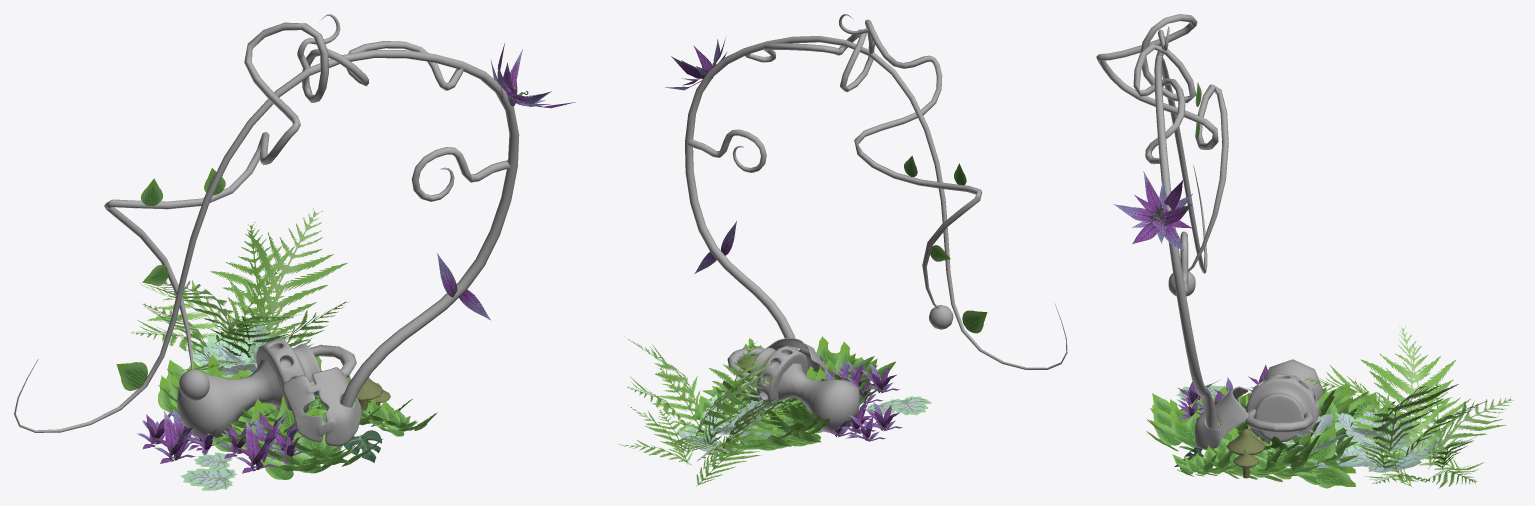
Rendered from title.fbx.
The picture shows the model from 3 angles, left to right: view 1: azimuth 30°, elevation 25°; view 2: azimuth 150°, elevation 25°; view 3: azimuth 270°, elevation 25°; orthographic projection. The views are drawn at different scales.
Parts seen in each view (by area): view 1: racine, feuillage_1_petit1, pCylinder41, masque, feuillage_2_petit1, feuillage_3_grand1, feuillage_4_grand6, feuillage_2_petit, lantern, feuillage_4_grand7, feuillage_4_grand5, feuillage_2_lighter1 (+7 smaller); view 2: racine, feuillage_1_petit1, pCylinder41, feuillage_3_grand1, lantern, feuillage_2_petit, feuillage_4_grand11, feuillage_2_petit1, feuillage_4_grand9, feuillage_2_lighter1, feuillage_4_grand7, feuillage_4_grand6 (+3 smaller); view 3: racine, feuillage_1_petit1, feuillage_3_grand1, feuillage_4_grand4, lantern, feuillage_2_lighter1, masque, feuillage_4_grand6, feuillage_4_grand5, feuillage_4_grand3, pCylinder41, nurbsToPoly55 (+5 smaller).
Part boxes in pixels (left/top/right/bottom): racine: left=14, top=14, right=519, bottom=432; feuillage_1_petit1: left=130, top=208, right=347, bottom=373; pCylinder41: left=177, top=360, right=282, bottom=439; masque: left=283, top=367, right=361, bottom=446; feuillage_2_petit1: left=218, top=412, right=307, bottom=473; feuillage_3_grand1: left=186, top=322, right=325, bottom=422; feuillage_4_grand6: left=239, top=396, right=382, bottom=473; feuillage_2_petit: left=136, top=409, right=225, bottom=463; lantern: left=256, top=338, right=320, bottom=412; feuillage_4_grand7: left=224, top=398, right=355, bottom=479; feuillage_4_grand5: left=352, top=398, right=437, bottom=436; feuillage_2_lighter1: left=490, top=43, right=575, bottom=108; racine: left=685, top=14, right=1067, bottom=369; feuillage_1_petit1: left=618, top=336, right=792, bottom=486; pCylinder41: left=777, top=363, right=860, bottom=431; feuillage_3_grand1: left=678, top=375, right=790, bottom=452; lantern: left=749, top=345, right=807, bottom=409; feuillage_2_petit: left=820, top=399, right=902, bottom=441; feuillage_4_grand11: left=728, top=400, right=817, bottom=450; feuillage_2_petit1: left=815, top=360, right=899, bottom=403; feuillage_4_grand9: left=772, top=368, right=871, bottom=446; feuillage_2_lighter1: left=665, top=36, right=726, bottom=90; feuillage_4_grand7: left=804, top=341, right=895, bottom=409; feuillage_4_grand6: left=783, top=336, right=874, bottom=407; racine: left=1096, top=14, right=1228, bottom=448; feuillage_1_petit1: left=1304, top=325, right=1515, bottom=488; feuillage_3_grand1: left=1267, top=405, right=1444, bottom=472; feuillage_4_grand4: left=1207, top=427, right=1357, bottom=488; lantern: left=1245, top=374, right=1319, bottom=444; feuillage_2_lighter1: left=1113, top=171, right=1192, bottom=250; masque: left=1194, top=386, right=1248, bottom=449; feuillage_4_grand6: left=1146, top=405, right=1256, bottom=451; feuillage_4_grand5: left=1172, top=445, right=1258, bottom=476; feuillage_4_grand3: left=1207, top=413, right=1357, bottom=473; pCylinder41: left=1264, top=359, right=1323, bottom=400; nurbsToPoly55: left=1245, top=409, right=1313, bottom=432.
Bounding box in the file's own units: 7.43 × 6.61 × 5.74.
